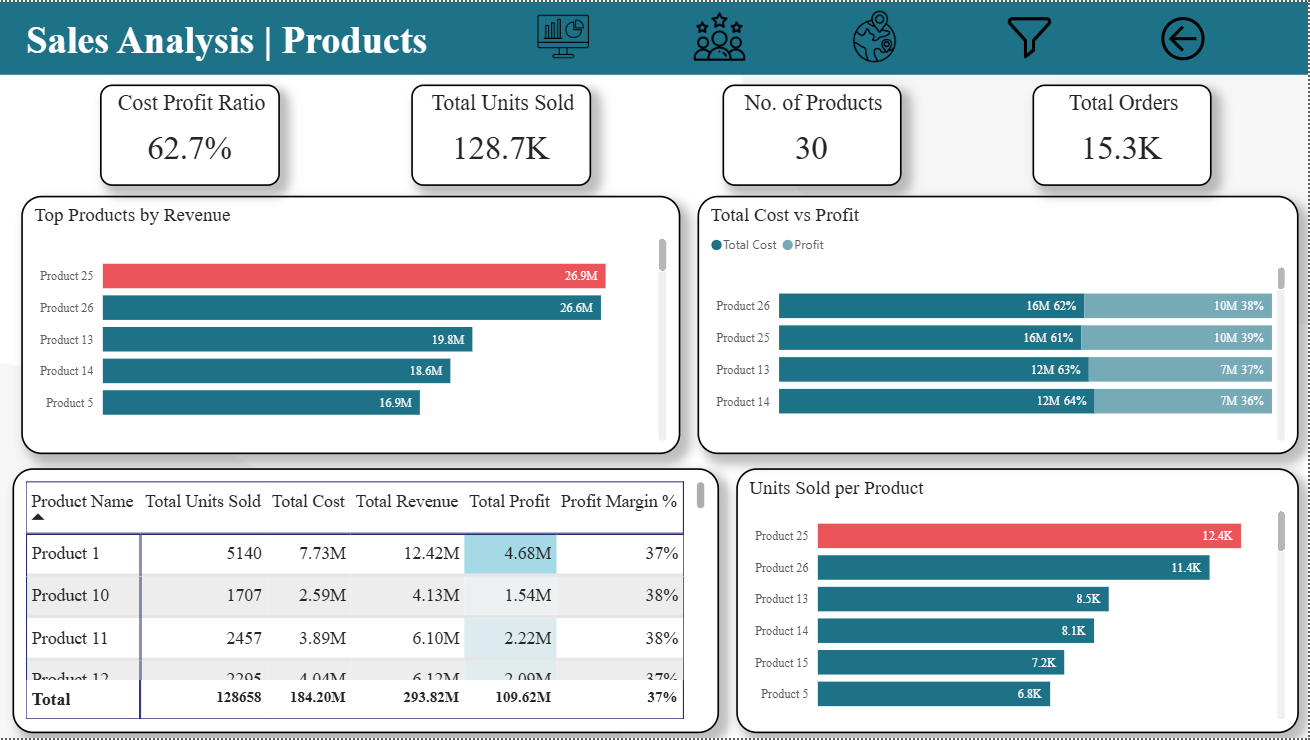

The page's visual inventory and layout, read from the dashboard file:
{"tool":"powerbi","page":{"name":"Products","canvas":[1280,720],"ordinal":2},"visuals":[{"type":"card","title":"No. of Products","fields":{"Values":["Count(sales.product_name)"]},"box":[706.8,80.2,174.9,99],"z":0},{"type":"card","title":"Total Units Sold","fields":{"Values":["Sum(sales.order_quantity)"]},"box":[402.3,80.2,176.1,99],"z":1000},{"type":"shape","box":[0,0,1280.3,71.4],"z":2000},{"type":"textbox","box":[20.8,11,412.1,59.9],"z":3000},{"type":"clusteredBarChart","title":"Top Products by Revenue","fields":{"Category":["sales.product_name"],"Y":["Sum(sales.revenue)"]},"box":[20.8,189.5,644.4,253.1],"z":4000},{"type":"clusteredBarChart","title":"Units Sold per Product","fields":{"Category":["sales.product_name"],"Y":["Sum(sales.order_quantity)"]},"box":[720.2,456.1,550.3,259.2],"z":5000},{"type":"hundredPercentStackedBarChart","title":"Total Cost vs Profit","fields":{"Category":["sales.product_name"],"Y":["Sum(sales.total_cost_in_mil = )","Sum(sales.total_profit_in_mil)"]},"box":[682.3,189.5,588.2,253.1],"z":6000},{"type":"pivotTable","fields":{"Rows":["sales.product_name"],"Values":["Sum(sales.order_quantity)","Sum(sales.total_cost)","Sum(sales.revenue)","Sum(sales.profit)","Avg(sales.profit_margin_pct)"]},"box":[12.2,456.1,690.9,259.2],"z":7000},{"type":"image","title":"Slicer Image","box":[981.9,8.7,50,50],"z":8000},{"type":"image","box":[830,8.7,50,50],"z":10000},{"type":"image","box":[678.1,8.7,50,50],"z":11000},{"type":"image","box":[526.2,8.7,50,50],"z":12000},{"type":"actionButton","box":[1129.6,8.7,54.6,54.6],"z":13000},{"type":"card","title":"Cost Profit Ratio","fields":{"Values":["_Measures.Cost Ratio"]},"box":[97.8,80.2,176.1,99],"z":14000},{"type":"card","title":"Total Orders","fields":{"Values":["CountNonNull(sales.order_number)"]},"box":[1010.1,80.7,174.9,99],"z":15000}]}

Visuals, with their boxes in screenshot pixels (x1, y1, x2, y2), scaled from the page's 1280x720 canvas onto the 1310x740 screenshot:
"No. of Products" card: x1=723 y1=82 x2=902 y2=184
"Total Units Sold" card: x1=412 y1=82 x2=592 y2=184
shape: x1=0 y1=0 x2=1309 y2=73
textbox: x1=21 y1=11 x2=443 y2=73
"Top Products by Revenue" clusteredBarChart: x1=21 y1=195 x2=681 y2=455
"Units Sold per Product" clusteredBarChart: x1=737 y1=469 x2=1300 y2=735
"Total Cost vs Profit" hundredPercentStackedBarChart: x1=698 y1=195 x2=1300 y2=455
pivotTable - sales.product_name x Sum(sales.order_quantity): x1=12 y1=469 x2=720 y2=735
"Slicer Image" image: x1=1005 y1=9 x2=1056 y2=60
image: x1=849 y1=9 x2=901 y2=60
image: x1=694 y1=9 x2=745 y2=60
image: x1=539 y1=9 x2=590 y2=60
actionButton: x1=1156 y1=9 x2=1212 y2=65
"Cost Profit Ratio" card: x1=100 y1=82 x2=280 y2=184
"Total Orders" card: x1=1034 y1=83 x2=1213 y2=185
